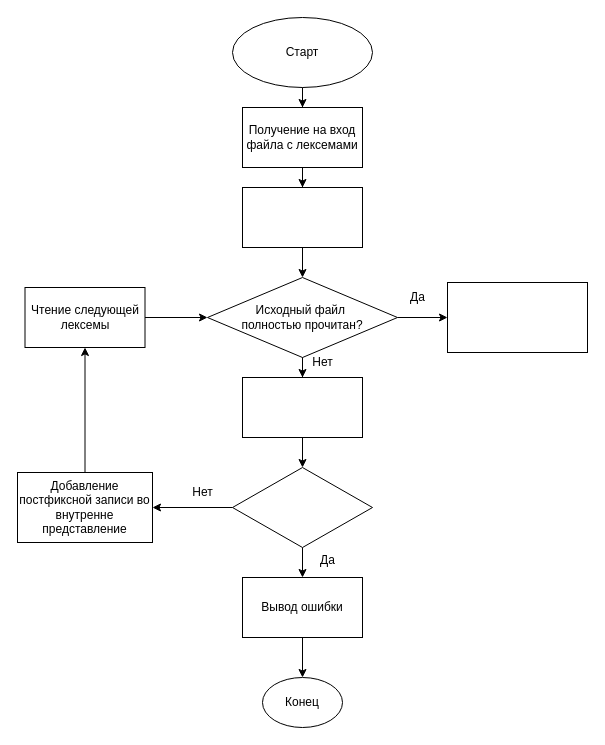
Image size: 605x745. Some labels were removed from this diagram. The centre of each missing label's shape, as x and y in pixels:
"Вывод внутреннего представления (постфиксных записей)" belongs at point 517,317.
"Есть ошибки?" belongs at point 302,507.
"Синтаксическая проверка методами рекурсивного спуска" belongs at point 302,407.
"Чтение лексемы" belongs at point 302,217.
